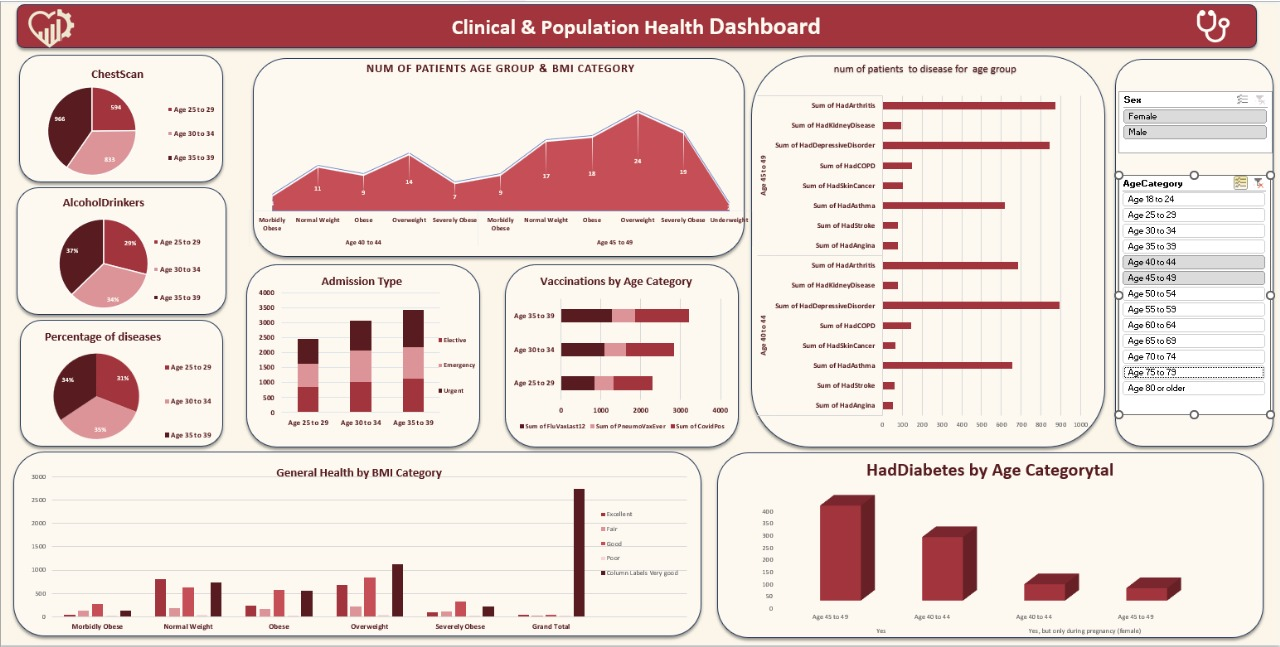

The page's visual inventory and layout, read from the dashboard file:
{"tool":"powerbi","page":{"name":"Duplicate of clinical","canvas":[1280,720],"ordinal":3},"visuals":[{"type":"shape","box":[1017.4,202.3,262.8,255.5],"z":0,"group":"g1"},{"type":"shape","box":[393,380.2,626.7,170.9],"z":0},{"type":"shape","box":[0,0,1280.2,169.8],"z":1000,"group":"g2"},{"type":"shape","box":[0,201.9,394.3,515],"z":1000},{"type":"shape","box":[1048.9,14.1,211.3,193.4],"z":2000,"group":"g2"},{"type":"clusteredBarChart","fields":{"Y":["Sum(الجدول2_3.DifficultyWalking)","Sum(الجدول2_3.DifficultyConcentrating)","Sum(الجدول2_3.DeafOrHardOfHearing)","Sum(الجدول2_3.DifficultyErrands)","Sum(الجدول2_3.BlindOrVisionDifficulty)","Sum(الجدول2_3.DifficultyDressingBathing)"]},"box":[0,414.1,376.4,160.4],"z":2000},{"type":"shape","box":[9.4,10.4,211.3,193.4],"z":3000,"group":"g2"},{"type":"clusteredBarChart","title":"Number of infected people for each disease","fields":{"Y":["Sum(الجدول2_3.HadArthritis)","Sum(الجدول2_3.HadDepressiveDisorder)","Sum(الجدول2_3.HadAsthma)","Sum(الجدول2_3.HadSkinCancer)","Sum(الجدول2_3.HadCOPD)","Sum(الجدول2_3.HadAngina)","Sum(الجدول2_3.HadHeartAttack)","Sum(الجدول2_3.HadKidneyDisease)","Sum(الجدول2_3.HadStroke)"]},"box":[18.9,216,356.6,224.5],"z":3000},{"type":"clusteredBarChart","fields":{"Y":["Sum(الجدول2_3.FluVaxLast12)","Sum(الجدول2_3.PneumoVaxEver)","Sum(الجدول2_3.HIVTesting)","Sum(الجدول2_3.CovidPos)"]},"box":[18.9,577.3,365,125.5],"z":4000},{"type":"slicer","fields":{"Values":["الجدول2_3.Sex"]},"box":[25.9,22.4,175.1,84.5],"z":5000,"group":"g2"},{"type":"textbox","box":[9.4,213.2,383.9,41.5],"z":5000},{"type":"textbox","box":[302.3,0,440.7,97.7],"z":6000,"group":"g2"},{"type":"textbox","box":[0,407.5,267.9,41.5],"z":6000},{"type":"shape","box":[794.3,14.3,235.7,30],"z":7000,"group":"g2"},{"type":"textbox","box":[18.9,571.6,329.2,41.5],"z":7000},{"type":"shape","box":[794.3,87.1,235.7,30],"z":8000,"group":"g2"},{"type":"shape","box":[397.7,551.2,624.4,166.3],"z":8000},{"type":"shape","box":[794.3,50,235.7,31.4],"z":9000,"group":"g2"},{"type":"shape","box":[390.7,195.3,626.7,190.7],"z":9000},{"type":"textbox","box":[820,14.3,178.6,35.7],"z":10000,"group":"g2"},{"type":"areaChart","fields":{"Category":["الجدول2_3.GeneralHealth"],"Y":["Avg(الجدول2_3.BMI)"]},"box":[409.3,397.7,305.8,153.5],"z":10000},{"type":"textbox","box":[805.7,87.1,224.3,41.4],"z":11000,"group":"g2"},{"type":"group","id":"g1","title":"Group 2","box":[1017.4,202.3,262.8,512.8],"z":11000},{"type":"textbox","box":[805.6,50,224.3,37.1],"z":12000,"group":"g2"},{"type":"clusteredColumnChart","fields":{"Category":["الجدول2_3.Chronic_Count"],"Y":["Sum(الجدول2_3.Chronic_Count)"]},"box":[406.3,561.5,607.2,153.5],"z":12000},{"type":"slicer","fields":{"Values":["الجدول2_3.AgeCategory"]},"box":[1061.2,27.4,186.8,167.9],"z":13000,"group":"g2"},{"type":"areaChart","title":"GeneralHealth by ECigaretteUsage","fields":{"Category":["الجدول2_3.ECigaretteUsage"],"Y":["Divide(CountNonNull(الجدول2_3.GeneralHealth), ScopedEval(CountNonNull(الجدول2_3.GeneralHealth), []))"]},"box":[409.7,203.6,288.1,175.1],"z":13000},{"type":"areaChart","title":"GeneralHealth by SmokerStatus","fields":{"Y":["Divide(CountNonNull(الجدول2_3.GeneralHealth), ScopedEval(CountNonNull(الجدول2_3.GeneralHealth), []))"],"Category":["الجدول2_3.SmokerStatus"]},"box":[709.9,202.7,295,175.1],"z":14000},{"type":"areaChart","title":"AlcoholDrinkers by GeneralHealth","fields":{"Y":["Sum(الجدول2_3.AlcoholDrinkers)"],"Category":["الجدول2_3.GeneralHealth"]},"box":[719.8,402.3,290.7,148.8],"z":15000},{"type":"group","id":"g2","title":"Group 1","box":[0,0,1280.2,207.5],"z":16000},{"type":"image","box":[220.8,13.8,102.6,88],"z":17000},{"type":"image","box":[48.3,53.5,70.7,38],"z":18000},{"type":"image","box":[110.4,55.2,73.3,36.2],"z":19000},{"type":"slicer","fields":{"Values":["الجدول2_3.State"]},"box":[22.6,111.3,186.8,72.6],"z":20000,"group":"g2"},{"type":"donutChart","title":"Count of Patient by HadDiabetes","fields":{"Category":["الجدول2_3.HadDiabetes"],"Y":["CountNonNull(الجدول2_3.PatientID)"]},"box":[1024.8,214.6,240.7,224.3],"z":20000,"group":"g1"},{"type":"shape","box":[1017.4,459.6,262.8,255.5],"z":21000,"group":"g1"},{"type":"shape","box":[267.9,86.8,510.3,114.1],"z":22000,"group":"g2"},{"type":"donutChart","title":"Count of Patient by TetanusLast10Tdap","fields":{"Category":["الجدول2_3.TetanusLast10Tdap"],"Y":["CountNonNull(الجدول2_3.PatientID)"]},"box":[1025.7,471,246.3,230],"z":22000,"group":"g1"},{"type":"slicer","fields":{"Values":["الجدول2_3.Date of Admission"]},"box":[289.6,98.1,471.6,97.2],"z":24000,"group":"g2"}]}

Visuals, with their boxes on the page's 1280x720 design canvas (x1, y1, x2, y2). These are canvas units, not pixel positions in the 1280x647 screenshot, which may show the page scaled, cropped or inside an application window:
shape: bbox=[1017, 202, 1280, 458]
shape: bbox=[393, 380, 1020, 551]
shape: bbox=[0, 0, 1280, 170]
shape: bbox=[0, 202, 394, 717]
shape: bbox=[1049, 14, 1260, 208]
clusteredBarChart - Sum(الجدول2_3.DifficultyWalking) x Sum(الجدول2_3.DifficultyConcentrating): bbox=[0, 414, 376, 574]
shape: bbox=[9, 10, 221, 204]
"Number of infected people for each disease" clusteredBarChart: bbox=[19, 216, 376, 440]
clusteredBarChart - Sum(الجدول2_3.FluVaxLast12) x Sum(الجدول2_3.PneumoVaxEver): bbox=[19, 577, 384, 703]
slicer - الجدول2_3.Sex: bbox=[26, 22, 201, 107]
textbox: bbox=[9, 213, 393, 255]
textbox: bbox=[302, 0, 743, 98]
textbox: bbox=[0, 408, 268, 449]
shape: bbox=[794, 14, 1030, 44]
textbox: bbox=[19, 572, 348, 613]
shape: bbox=[794, 87, 1030, 117]
shape: bbox=[398, 551, 1022, 718]
shape: bbox=[794, 50, 1030, 81]
shape: bbox=[391, 195, 1017, 386]
textbox: bbox=[820, 14, 999, 50]
areaChart - الجدول2_3.GeneralHealth x Avg(الجدول2_3.BMI): bbox=[409, 398, 715, 551]
textbox: bbox=[806, 87, 1030, 128]
"Group 2" group: bbox=[1017, 202, 1280, 715]
textbox: bbox=[806, 50, 1030, 87]
clusteredColumnChart - الجدول2_3.Chronic_Count x Sum(الجدول2_3.Chronic_Count): bbox=[406, 562, 1014, 715]
slicer - الجدول2_3.AgeCategory: bbox=[1061, 27, 1248, 195]
"GeneralHealth by ECigaretteUsage" areaChart: bbox=[410, 204, 698, 379]
"GeneralHealth by SmokerStatus" areaChart: bbox=[710, 203, 1005, 378]
"AlcoholDrinkers by GeneralHealth" areaChart: bbox=[720, 402, 1010, 551]
"Group 1" group: bbox=[0, 0, 1280, 208]
image: bbox=[221, 14, 323, 102]
image: bbox=[48, 54, 119, 92]
image: bbox=[110, 55, 184, 91]
slicer - الجدول2_3.State: bbox=[23, 111, 209, 184]
"Count of Patient by HadDiabetes" donutChart: bbox=[1025, 215, 1266, 439]
shape: bbox=[1017, 460, 1280, 715]
shape: bbox=[268, 87, 778, 201]
"Count of Patient by TetanusLast10Tdap" donutChart: bbox=[1026, 471, 1272, 701]
slicer - الجدول2_3.Date of Admission: bbox=[290, 98, 761, 195]
